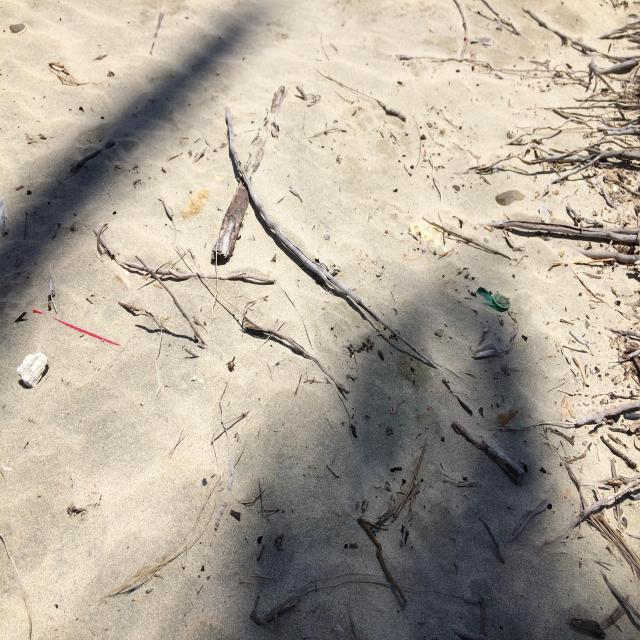litter: (33, 309, 121, 347), (472, 287, 510, 312)
